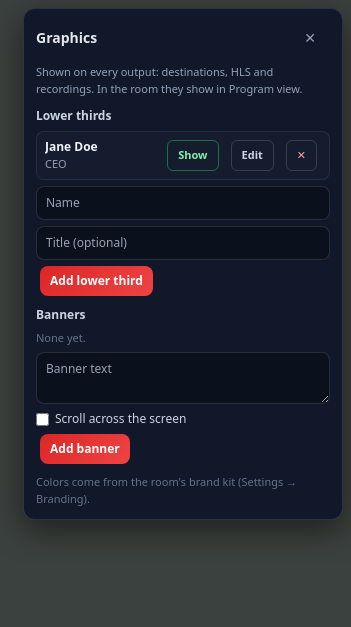
Scenario: GraphicsPanel › warns when a save didn't reach the live outputs, and retries
The image size is (351, 627).
Step 1. Click the button "Show" → coordinates (193, 155), box [167,140,218,170]
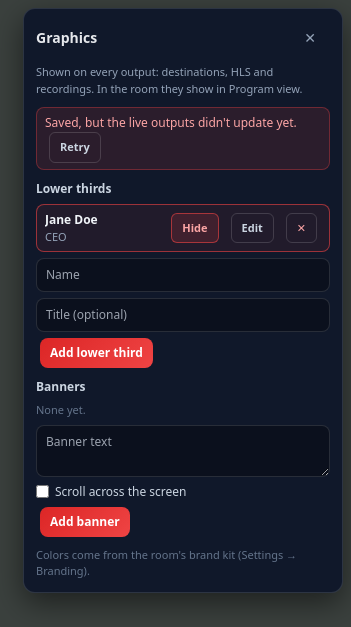
Check: the message "Saved, but the live outputs didn't update yet. Retry" is shown, box [36,107,330,170]
Check: the button "Hide" is shown, box [171,212,218,243]
Step 2. Click the button "Retry" → coordinates (75, 147), box [49,132,101,162]
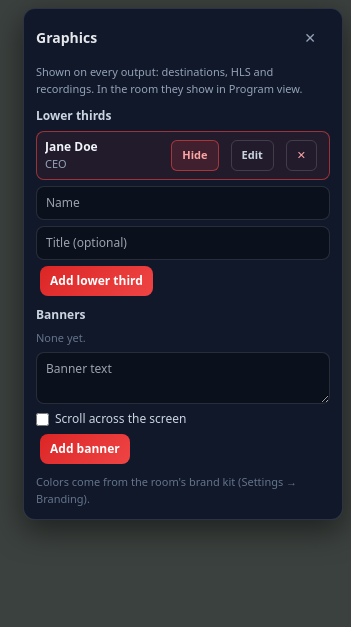
Check: the message with test id "graphics-not-synced" is gone
